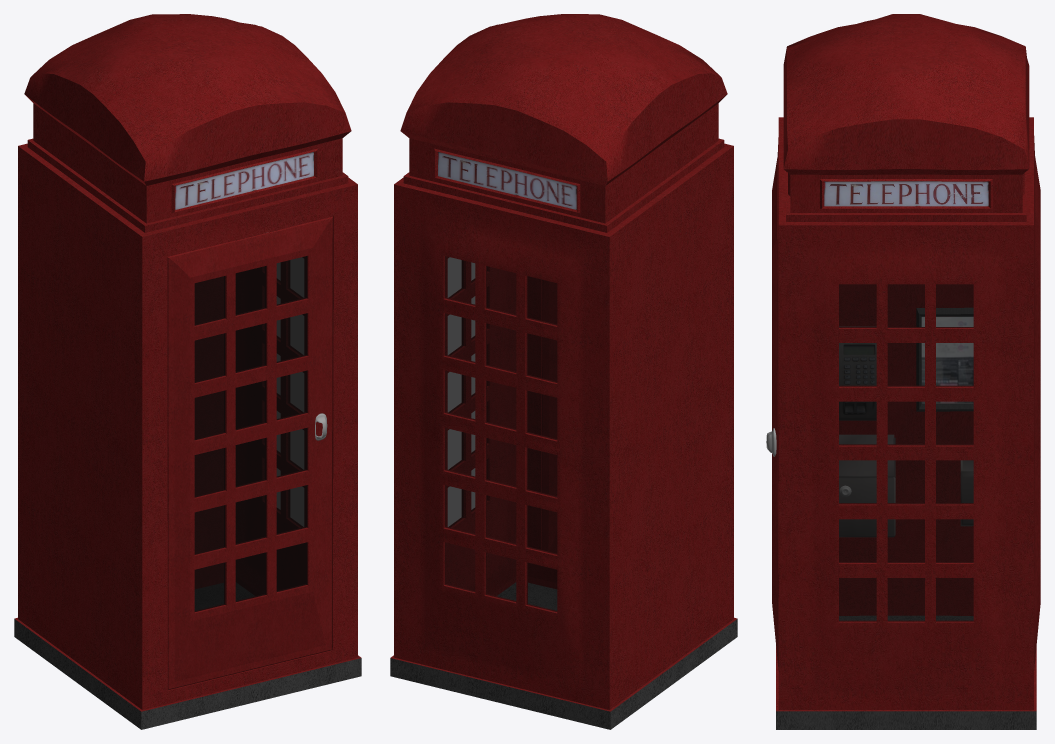
The model's file is phonebox.glb.
3 renders of one model, left to right at view 1: azimuth 30°, elevation 25°; view 2: azimuth 150°, elevation 25°; view 3: azimuth 270°, elevation 25°, orthographic. The views are drawn at different scales.
Visible parts, largest first — view 1: Phonebox, Door; view 2: Phonebox, Door; view 3: Phonebox, Door.
Part boxes in pixels (x1,y1,x2,y2): Phonebox: (14,14,361,729); Door: (167,216,332,689); Phonebox: (390,14,737,729); Door: (542,280,557,553); Phonebox: (776,14,1040,729); Door: (766,157,778,669).
Bounding box in the file's own units: 3.86 × 10.34 × 4.04.
11 materials, 10 textured.
